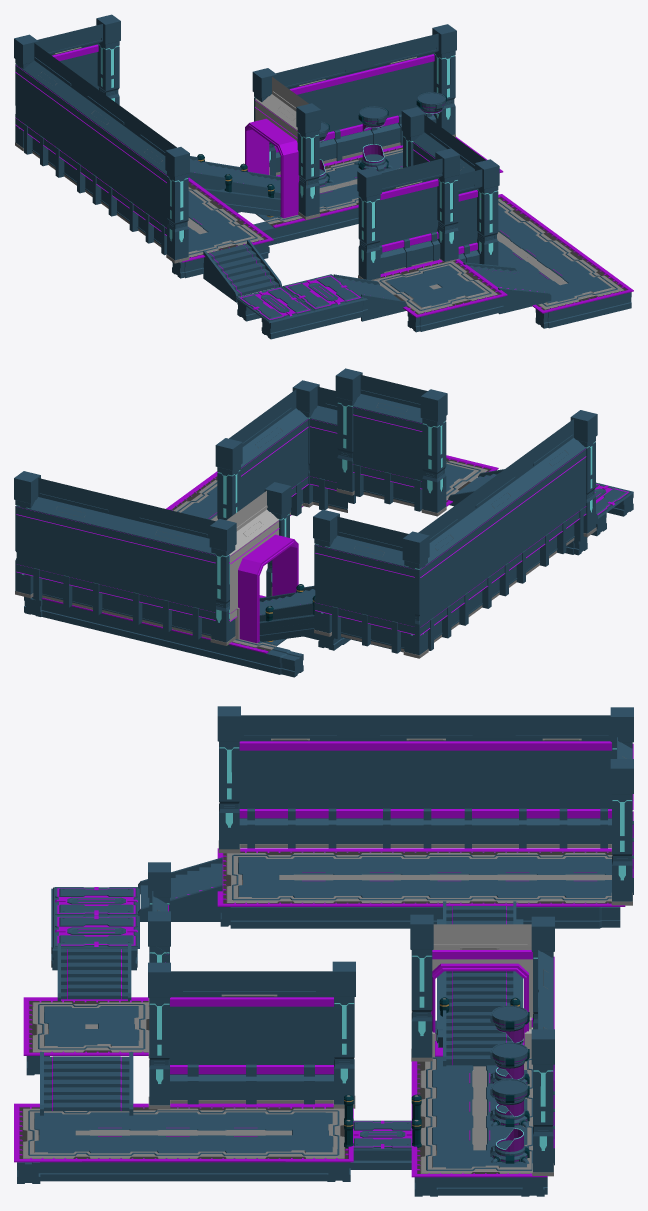
The model's file is new-room.glb.
The picture shows the model from 3 angles, top to bottom: view 1: azimuth 30°, elevation 25°; view 2: azimuth 150°, elevation 25°; view 3: azimuth 270°, elevation 25°; orthographic projection. The views are drawn at different scales.
Visible parts, largest first — view 1: Plane.011, Plane.005, Plane.014, Plane.006, Plane.010, Plane.004, Plane.312, Plane.003, Plane.016, Plane.044, Plane.019, Plane.015 (+39 smaller); view 2: Plane.010, Plane.011, Plane.007, Plane.014, Plane.005, Plane.004, Plane.006, Plane.312, Plane.111, Plane.049, Plane.040, Plane.016 (+17 smaller); view 3: Plane.111, Plane.005, Plane.004, Plane.006, Plane.054, Plane.312, Plane.051, Plane.319, Plane.001, Plane.034, Plane.035, Plane.032 (+43 smaller).
Part boxes in pixels (left/top/right/bottom): Plane.011: left=355, top=33, right=438, bottom=155; Plane.005: left=68, top=76, right=131, bottom=221; Plane.014: left=379, top=158, right=442, bottom=273; Plane.006: left=15, top=43, right=78, bottom=182; Plane.010: left=274, top=52, right=360, bottom=175; Plane.004: left=121, top=114, right=176, bottom=255; Plane.312: left=245, top=77, right=308, bottom=218; Plane.003: left=203, top=239, right=281, bottom=302; Plane.016: left=357, top=167, right=381, bottom=280; Plane.044: left=296, top=103, right=320, bottom=219; Plane.019: left=165, top=147, right=189, bottom=263; Plane.015: left=435, top=148, right=459, bottom=262; Plane.010: left=116, top=498, right=215, bottom=639; Plane.011: left=16, top=478, right=122, bottom=616; Plane.007: left=315, top=516, right=414, bottom=653; Plane.014: left=337, top=375, right=427, bottom=511; Plane.005: left=466, top=456, right=535, bottom=614; Plane.004: left=523, top=419, right=586, bottom=572; Plane.006: left=418, top=498, right=477, bottom=650; Plane.312: left=226, top=491, right=298, bottom=643; Plane.111: left=229, top=389, right=308, bottom=516; Plane.049: left=24, top=596, right=303, bottom=677; Plane.040: left=309, top=386, right=347, bottom=512; Plane.016: left=420, top=389, right=447, bottom=516; Plane.111: left=169, top=971, right=334, bottom=1104; Plane.005: left=360, top=715, right=495, bottom=848; Plane.004: left=239, top=715, right=359, bottom=848; Plane.006: left=495, top=715, right=611, bottom=848; Plane.054: left=230, top=907, right=620, bottom=928; Plane.312: left=411, top=924, right=533, bottom=1057; Plane.051: left=38, top=1162, right=328, bottom=1181; Plane.319: left=40, top=1052, right=133, bottom=1115; Plane.001: left=217, top=1103, right=285, bottom=1162; Plane.034: left=353, top=848, right=421, bottom=906; Plane.035: left=285, top=848, right=353, bottom=906; Plane.032: left=489, top=848, right=557, bottom=906.
Bounding box in the file's own units: 12.38 × 5.45 × 12.78.
